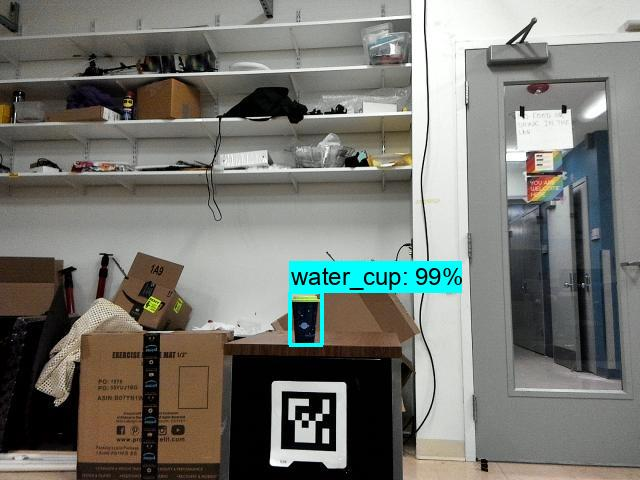water_cup: (290, 293, 320, 340)
